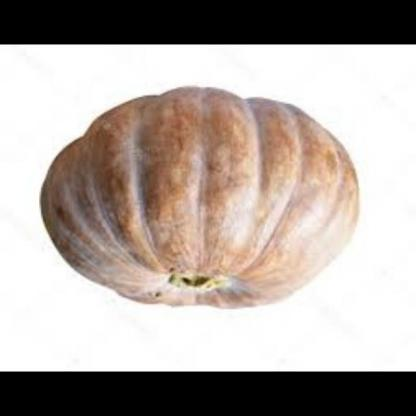pumpkin: (34, 86, 364, 316)
